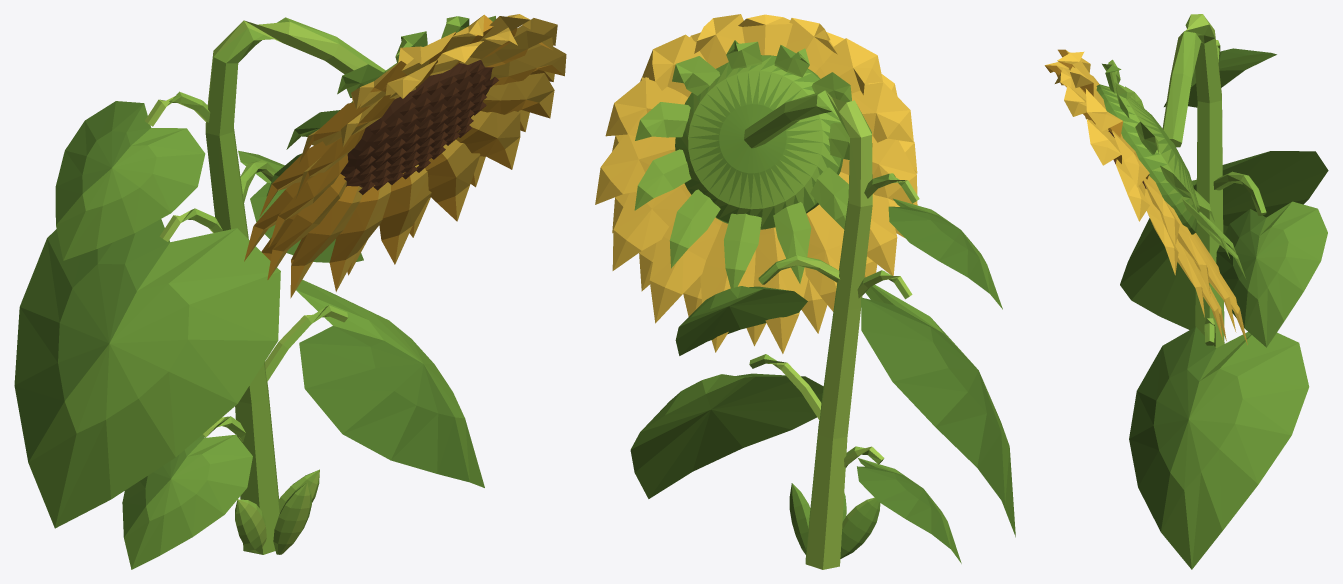
File: FMS_Crop_Sunflower_S3.fbx
The picture shows the model from 3 angles, left to right: view 1: azimuth 30°, elevation 25°; view 2: azimuth 150°, elevation 25°; view 3: azimuth 270°, elevation 25°; orthographic projection. The views are drawn at different scales.
Parts seen in each view (by area): view 1: FMS_Crop_Sunflower_S3; view 2: FMS_Crop_Sunflower_S3; view 3: FMS_Crop_Sunflower_S3.
Boxes of the visible parts, x1,y1,x2,y2 form: FMS_Crop_Sunflower_S3: (14,14,566,569); FMS_Crop_Sunflower_S3: (595,14,1015,569); FMS_Crop_Sunflower_S3: (1044,14,1328,569).
Bounding box in the file's own units: 1.1 × 1.16 × 0.6279.
